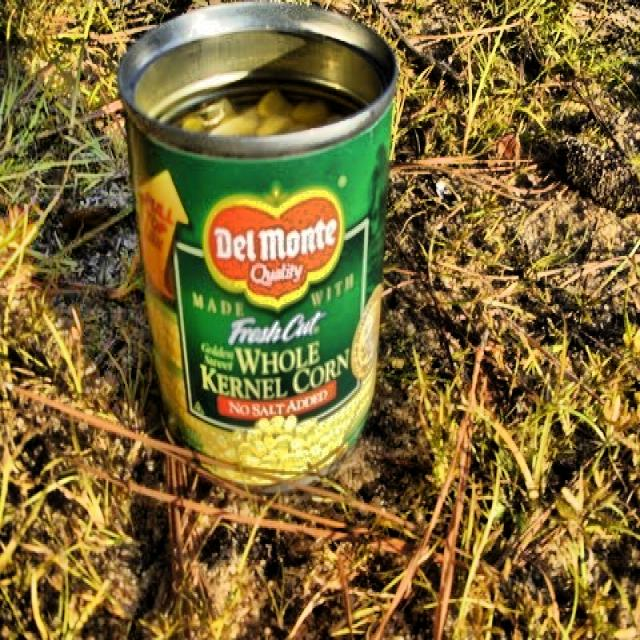Cans: (121, 2, 398, 512)
